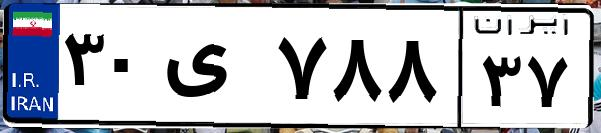0: (110, 28, 158, 98)
3: (57, 26, 110, 100), (475, 38, 525, 113)
7: (270, 28, 330, 110), (525, 38, 570, 115)
8: (385, 28, 445, 110), (330, 28, 385, 110)
ی: (158, 20, 270, 120)
